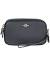bag: (2, 13, 50, 48)
